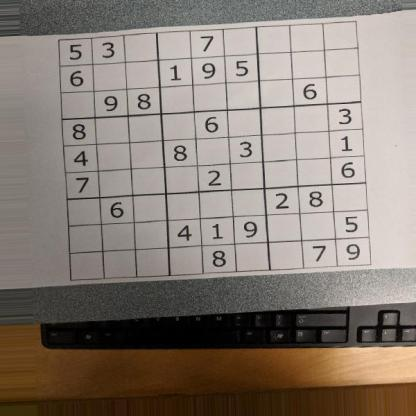sudoku: (55, 17, 374, 284)
